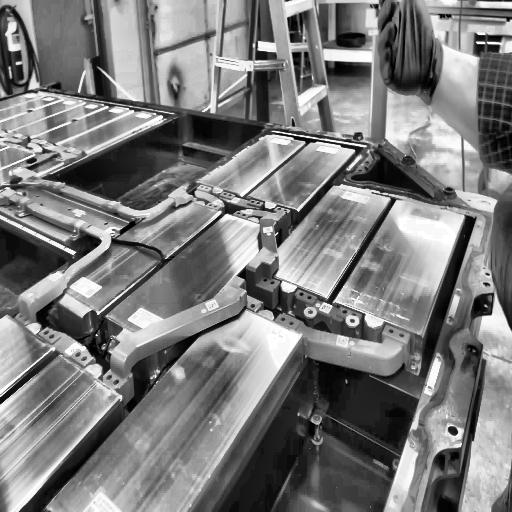battery_module: (43, 303, 303, 512), (106, 213, 279, 354), (54, 192, 221, 316), (334, 195, 467, 337), (261, 179, 391, 300), (245, 140, 353, 221), (198, 133, 306, 195)
busbar: (0, 120, 415, 409)
